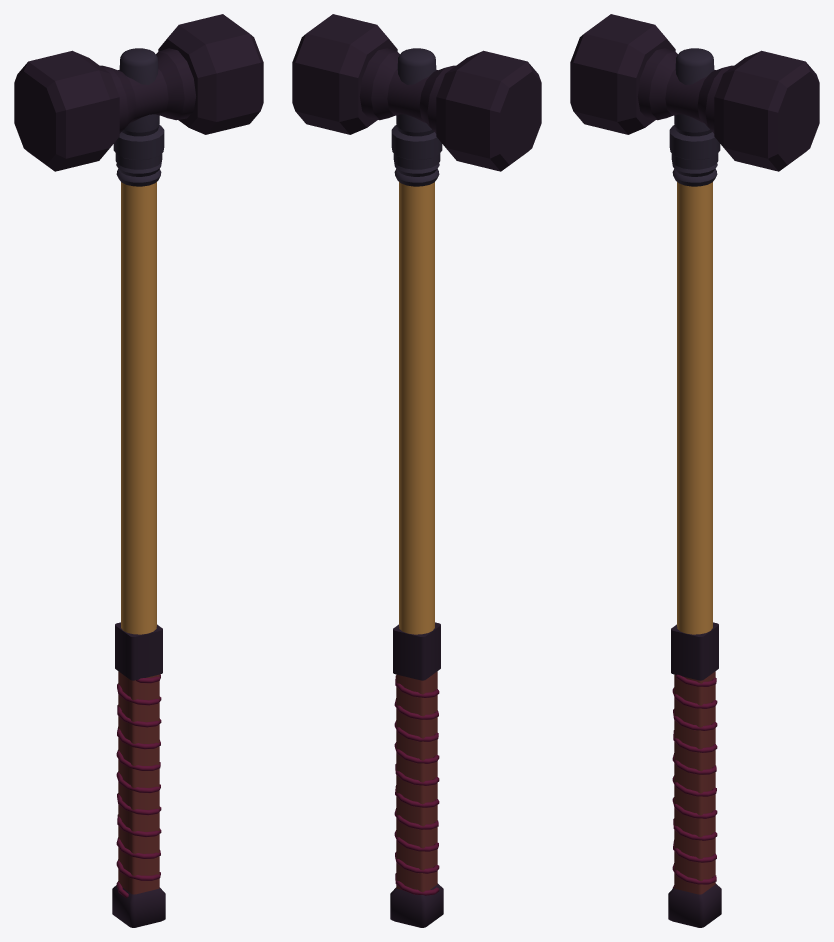
File: F_Gigahammer_01.fbx
3 views of the same model, side by side, from view 1: azimuth 30°, elevation 25°; view 2: azimuth 150°, elevation 25°; view 3: azimuth 330°, elevation 25° (orthographic).
Parts seen in each view (by area): view 1: F_gigahammer_01; view 2: F_gigahammer_01; view 3: F_gigahammer_01.
Part boxes in pixels (<box>): F_gigahammer_01: <box>14,14,263,927</box>; F_gigahammer_01: <box>292,14,541,927</box>; F_gigahammer_01: <box>570,14,819,927</box>.
Size of the model in its own units: 21.06 by 84.4 by 8.58.
